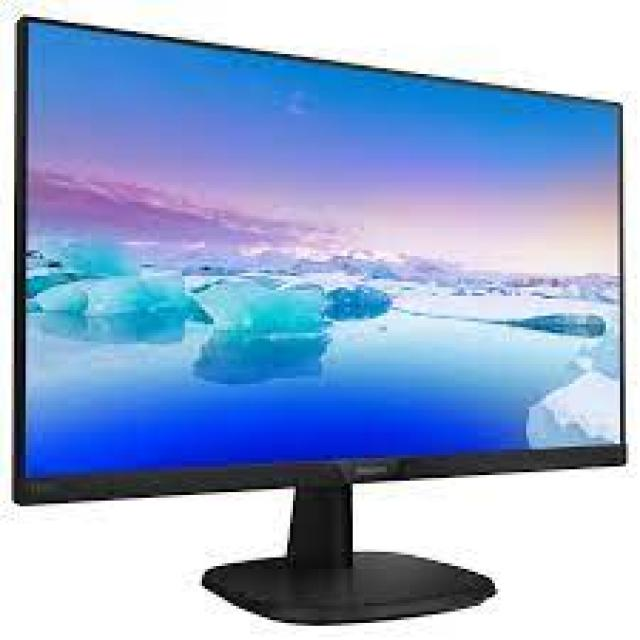monitor: (25, 20, 629, 503)
